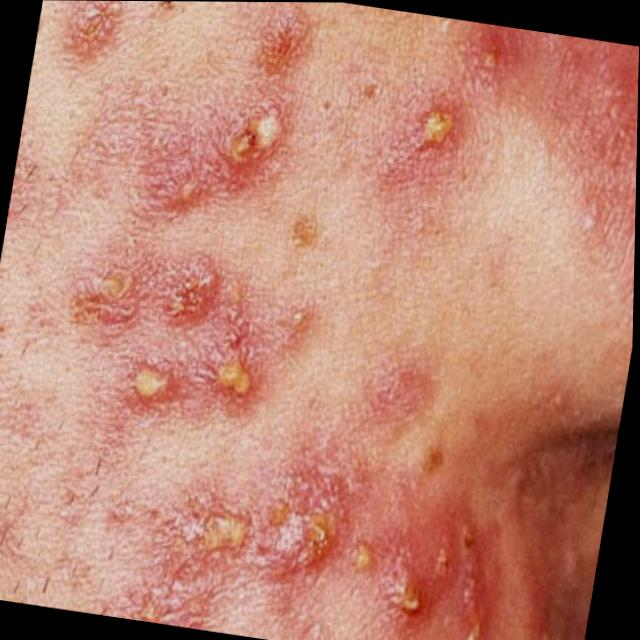pustule: (153, 440, 448, 625), (72, 314, 278, 442), (382, 33, 473, 180), (212, 63, 290, 169)
